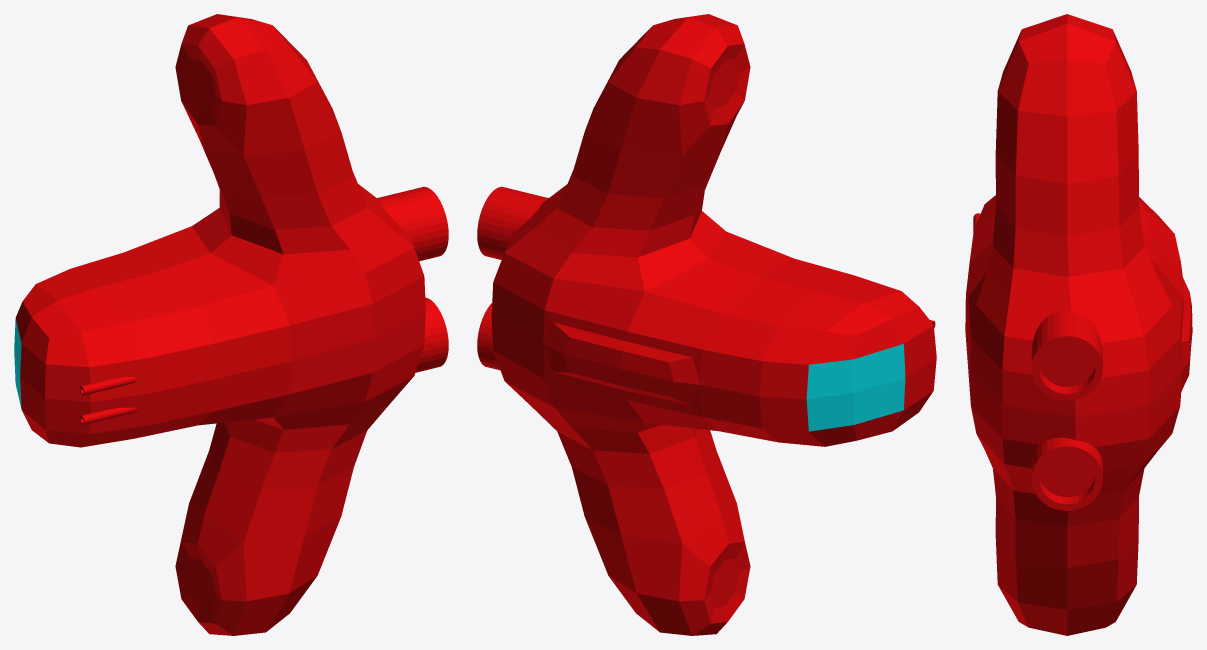
File: ship.fbx
The picture shows the model from 3 angles, left to right: view 1: azimuth 30°, elevation 25°; view 2: azimuth 150°, elevation 25°; view 3: azimuth 270°, elevation 25°; orthographic projection.
Visible parts, largest first — view 1: Cube; view 2: Cube; view 3: Cube.
Part boxes in pixels (x1,y1,x2,y2): Cube: (14,14,448,635); Cube: (477,14,936,635); Cube: (965,14,1192,635).
Bounding box in the file's own units: 617 × 874 × 294.
